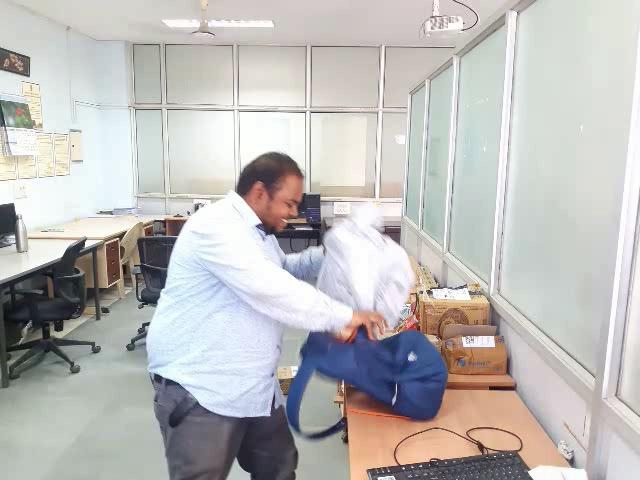Shoplifting: (139, 127, 456, 480)
